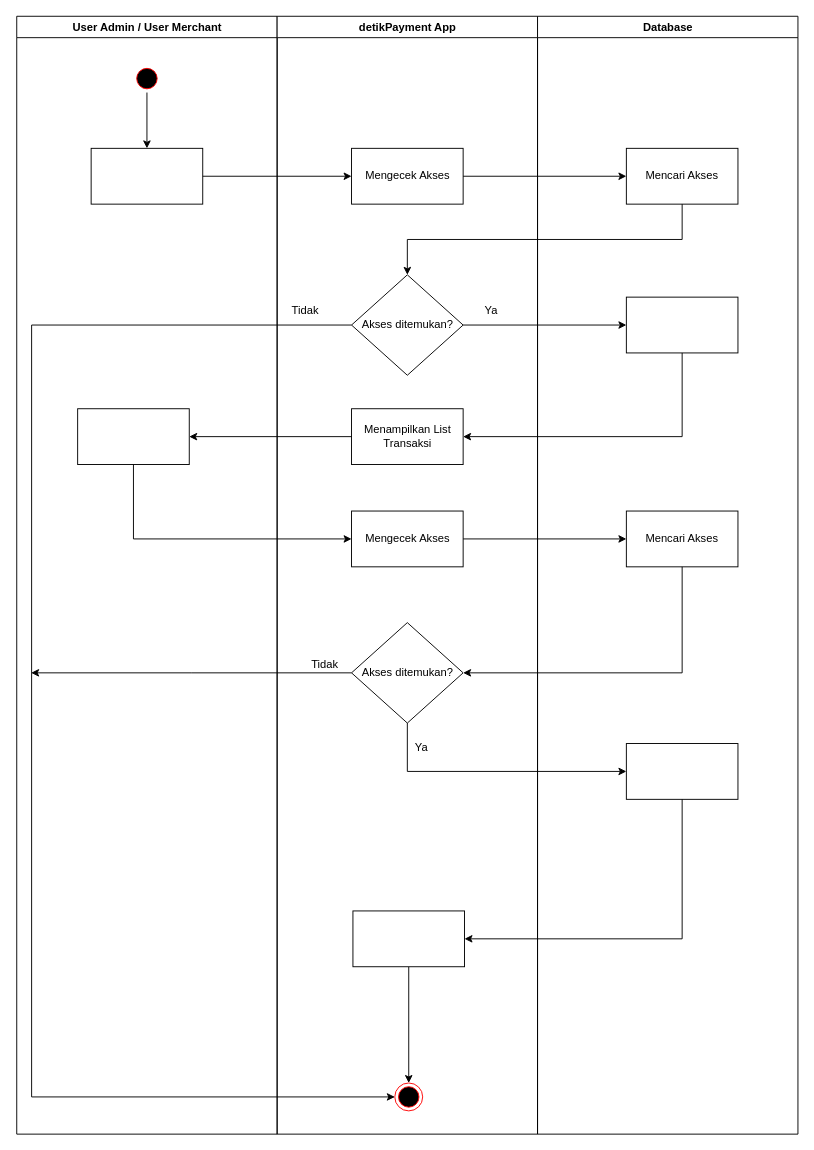
Image size: 814x1150. Some labels were removed from this diagram. The centre of each missing label's shape, as x and y in pixels:
"Klik Export To Excel" belongs at [133,436].
"Membuka Menu List Transactions" belongs at [146,175].
"Mendapatkan Data Laporan" belongs at [681,771].
"Mendapatkan List Transaksi" belongs at [681,324].
"Redirect ke URL Download" belongs at [408,938].
